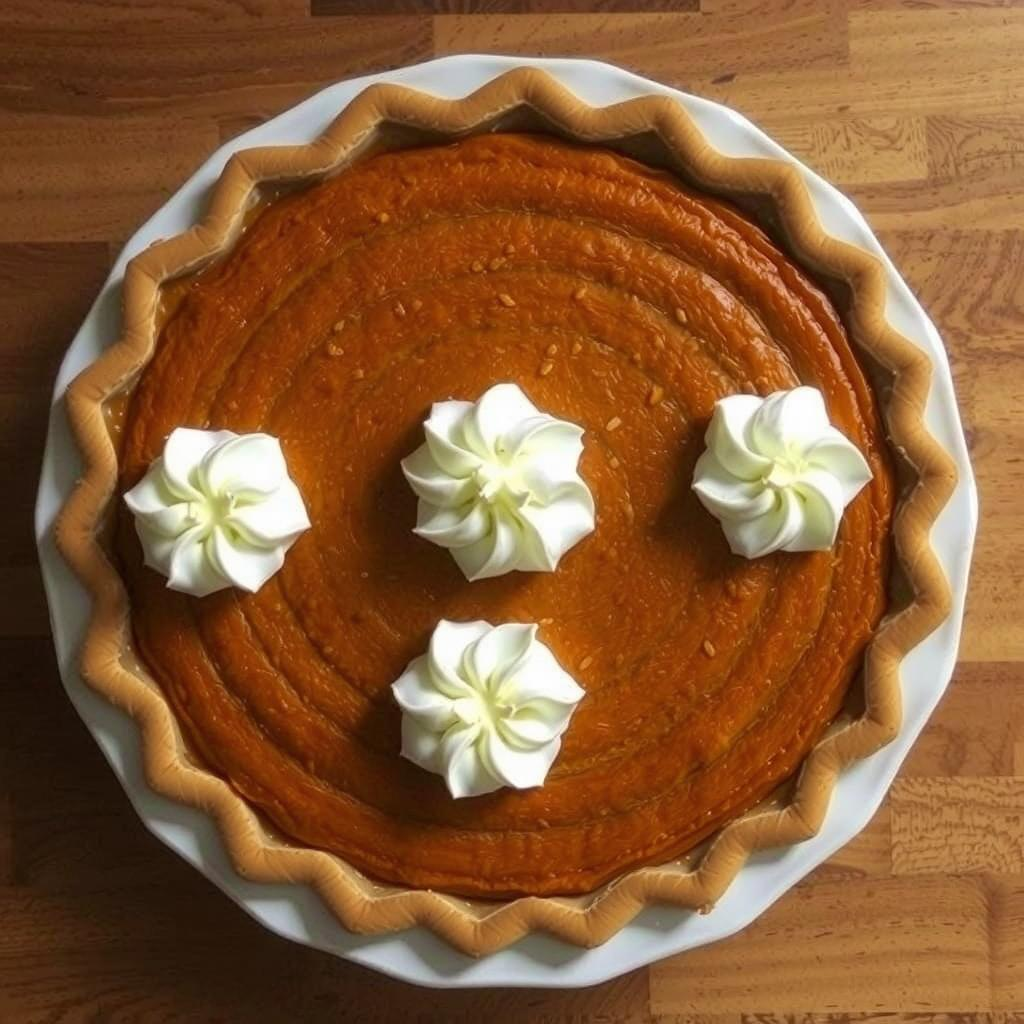pie: (36, 51, 973, 976)
